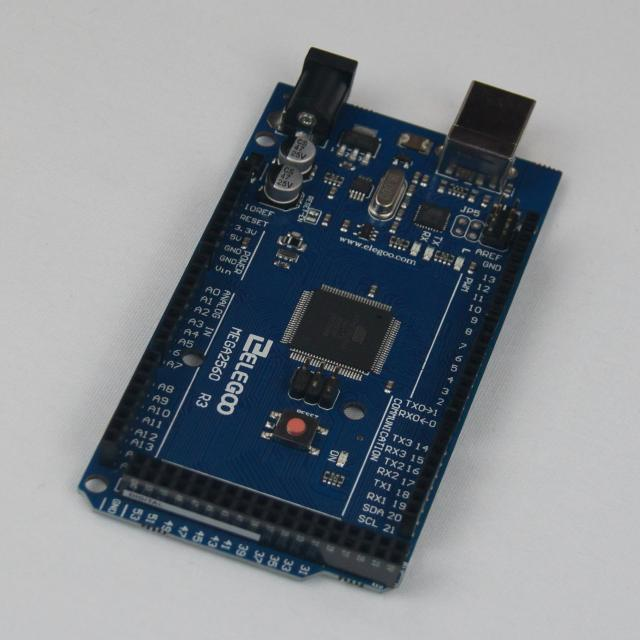Arduino Mega 2560 -Blue-: (81, 49, 561, 590)
